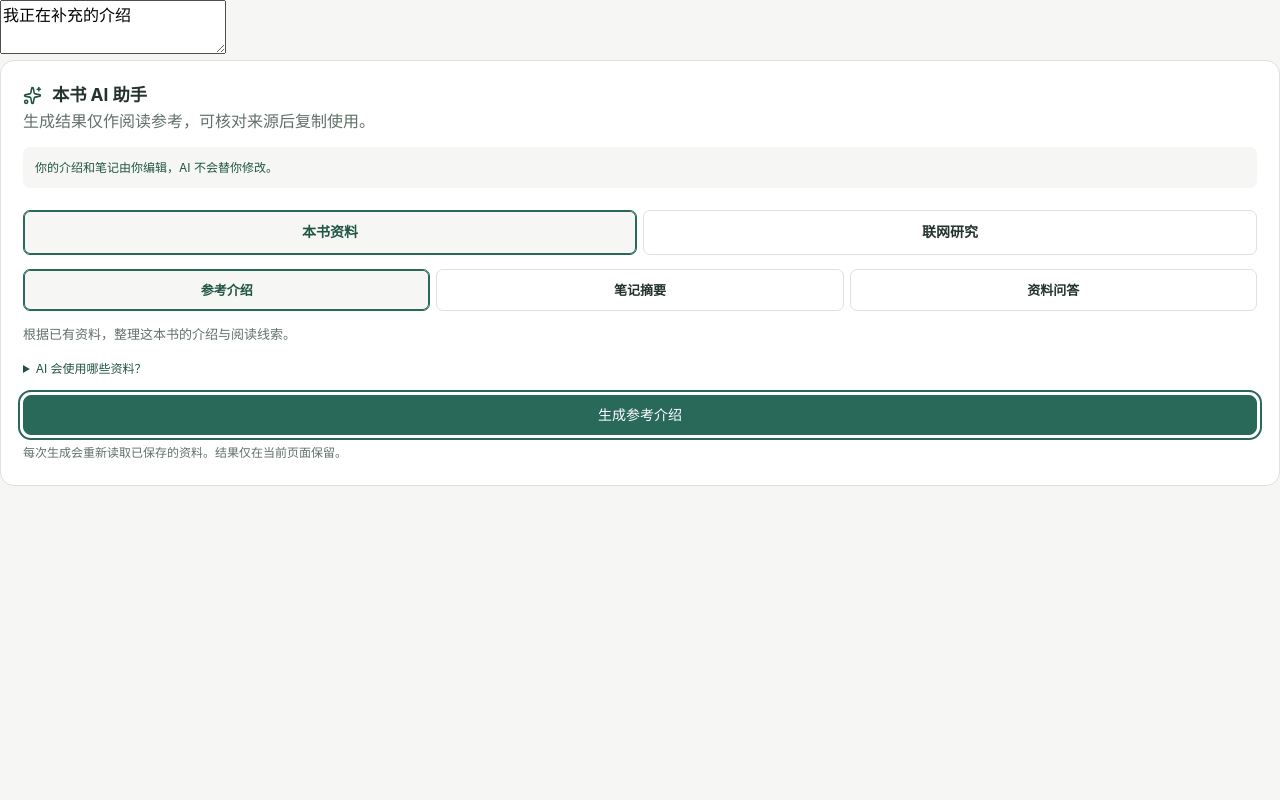
it: book AI read-only sidebar › keeps focus in the user's editor when a reference request finishes after they leave the sidebar
Click the button "生成参考介绍". click: click(640, 415)
box: left=23, top=395, right=1257, bottom=435
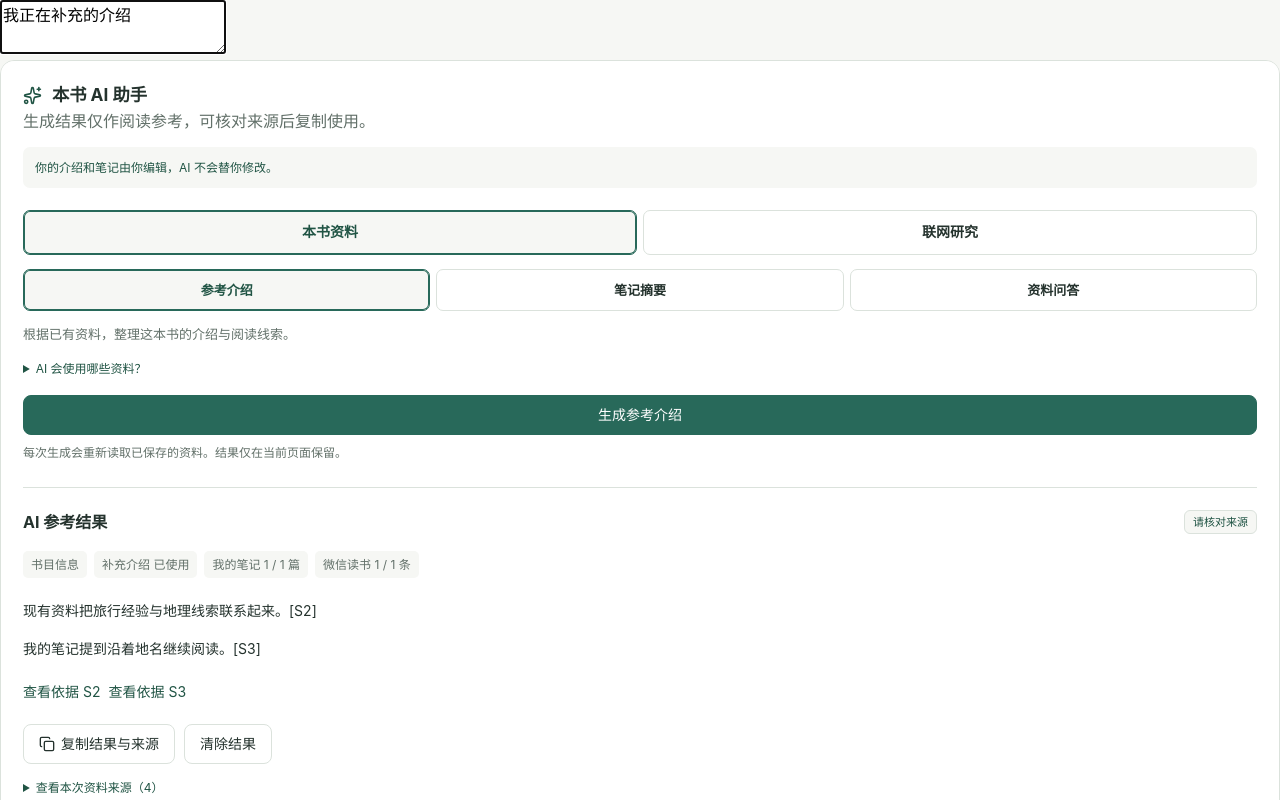
Expected: the text box named "我的手工编辑" holds "我正在补充的介绍", left=0, top=0, right=226, bottom=54
Now the element named "AI 参考结果" shows "旅行经验", box left=23, top=602, right=317, bottom=619
